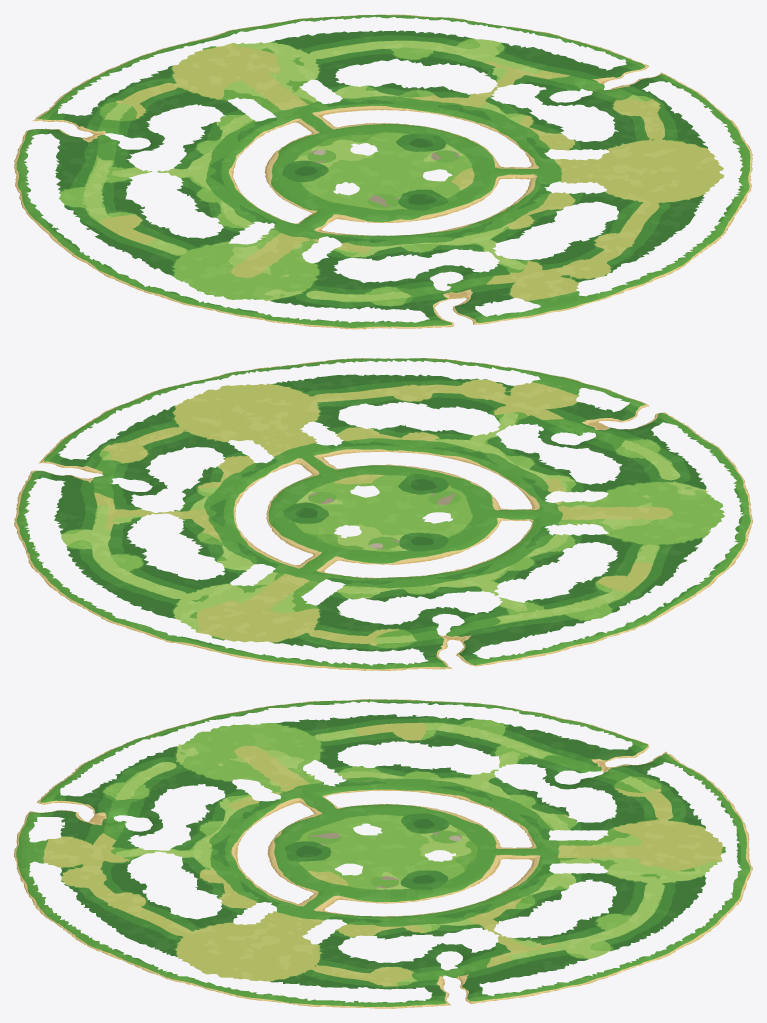
File: Inv-1-Ground.fbx
3 views of the same model, one above another, from view 1: azimuth 30°, elevation 25°; view 2: azimuth 150°, elevation 25°; view 3: azimuth 270°, elevation 25° (orthographic).
Parts seen in each view (by area): view 1: Inv-1-Ground-c21, Inv-1-Ground-c11, Inv-1-Ground-c12, Inv-1-Ground-c22, Inv-1-Ground-c01, Inv-1-Ground-c31, Inv-1-Ground-c23, Inv-1-Ground-c13, Inv-1-Ground-c10, Inv-1-Ground-c20, Inv-1-Ground-c32, Inv-1-Ground-c02 (+4 smaller); view 2: Inv-1-Ground-c21, Inv-1-Ground-c11, Inv-1-Ground-c12, Inv-1-Ground-c22, Inv-1-Ground-c23, Inv-1-Ground-c01, Inv-1-Ground-c13, Inv-1-Ground-c31, Inv-1-Ground-c10, Inv-1-Ground-c32, Inv-1-Ground-c20, Inv-1-Ground-c02 (+4 smaller); view 3: Inv-1-Ground-c11, Inv-1-Ground-c21, Inv-1-Ground-c12, Inv-1-Ground-c22, Inv-1-Ground-c31, Inv-1-Ground-c23, Inv-1-Ground-c01, Inv-1-Ground-c13, Inv-1-Ground-c32, Inv-1-Ground-c10, Inv-1-Ground-c20, Inv-1-Ground-c02 (+4 smaller).
Part boxes in pixels (x1,y1,x2,y2): Inv-1-Ground-c21: (382,130,650,243); Inv-1-Ground-c11: (213,171,480,284); Inv-1-Ground-c12: (115,99,381,212); Inv-1-Ground-c22: (286,58,552,171); Inv-1-Ground-c01: (66,212,310,310); Inv-1-Ground-c31: (553,95,752,201); Inv-1-Ground-c23: (201,14,454,99); Inv-1-Ground-c13: (58,39,285,141); Inv-1-Ground-c10: (312,243,569,328); Inv-1-Ground-c20: (481,202,710,309); Inv-1-Ground-c32: (455,34,701,129); Inv-1-Ground-c02: (14,141,212,249); Inv-1-Ground-c21: (216,400,482,513); Inv-1-Ground-c11: (385,441,650,554); Inv-1-Ground-c12: (285,513,552,626); Inv-1-Ground-c22: (116,471,383,584); Inv-1-Ground-c23: (54,543,284,648); Inv-1-Ground-c01: (553,483,752,592); Inv-1-Ground-c13: (201,585,455,670); Inv-1-Ground-c31: (66,377,311,471); Inv-1-Ground-c10: (483,378,708,482); Inv-1-Ground-c32: (14,436,214,543); Inv-1-Ground-c20: (313,358,569,441); Inv-1-Ground-c02: (456,555,700,652); Inv-1-Ground-c11: (189,769,386,853); Inv-1-Ground-c21: (189,851,386,934); Inv-1-Ground-c12: (384,769,581,852); Inv-1-Ground-c22: (384,851,581,934); Inv-1-Ground-c31: (189,934,386,1008); Inv-1-Ground-c23: (580,851,752,936); Inv-1-Ground-c01: (189,699,386,770); Inv-1-Ground-c13: (580,769,749,853); Inv-1-Ground-c32: (384,934,581,1008); Inv-1-Ground-c10: (14,769,190,853); Inv-1-Ground-c20: (14,851,190,936); Inv-1-Ground-c02: (384,699,581,771).
Size of the model in its own units: 188 by 0.4891 by 189.
